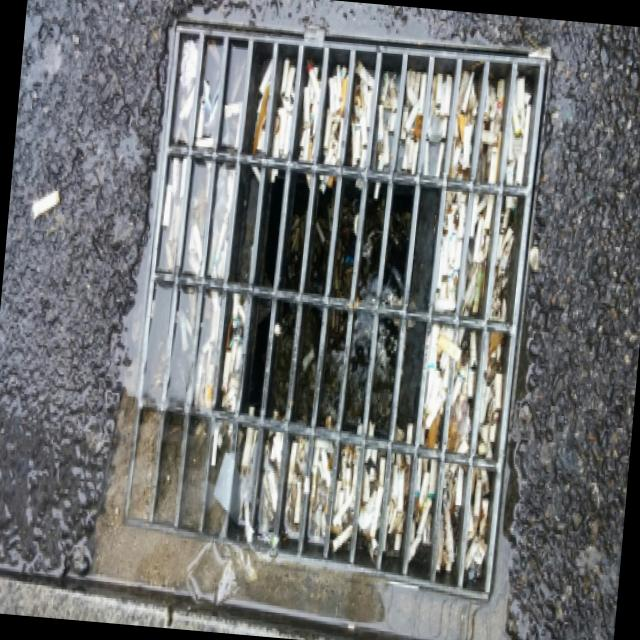drain_area: (225, 164, 311, 422), (381, 184, 440, 425)
drain_full: (125, 31, 546, 597)
